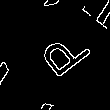P_SW: (26, 25, 89, 85)
